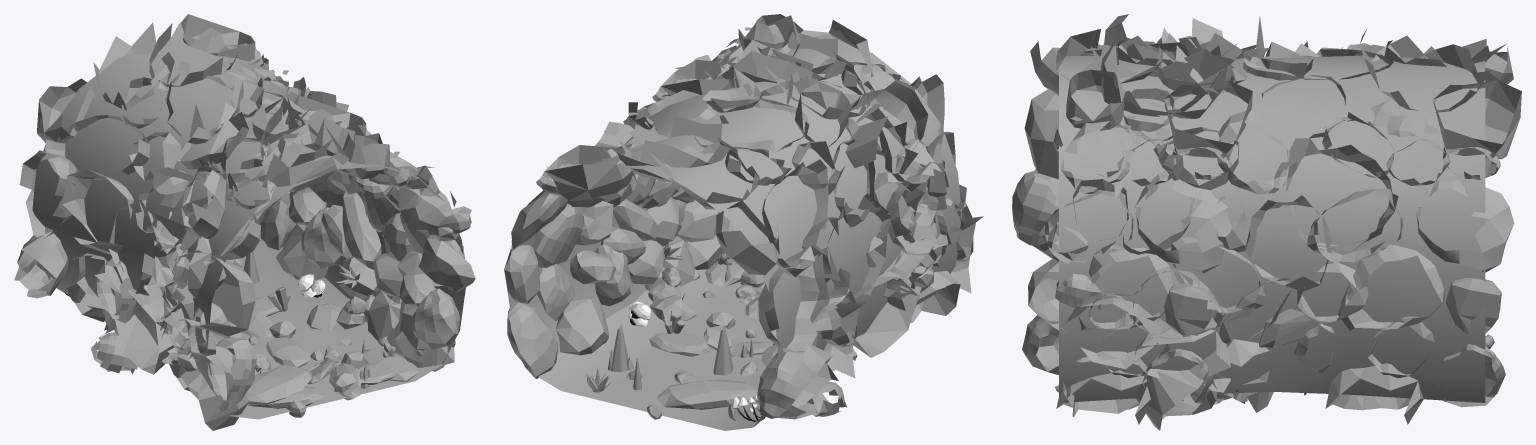
File: Cave3.fbx
3 views of the same model, side by side, from view 1: azimuth 30°, elevation 25°; view 2: azimuth 150°, elevation 25°; view 3: azimuth 270°, elevation 25° (orthographic). The views are drawn at different scales.
Parts seen in each view (by area): view 1: Grotta_3, Cirstalli3; view 2: Grotta_3, Cirstalli3; view 3: Grotta_3.
Part boxes in pixels (left/top/right/bottom): Grotta_3: left=14, top=14, right=475, bottom=430; Cirstalli3: left=64, top=264, right=395, bottom=357; Grotta_3: left=504, top=14, right=983, bottom=430; Cirstalli3: left=586, top=240, right=765, bottom=421; Grotta_3: left=1012, top=14, right=1521, bottom=430.
Size of the model in its own units: 13.9 by 12.77 by 16.94.
